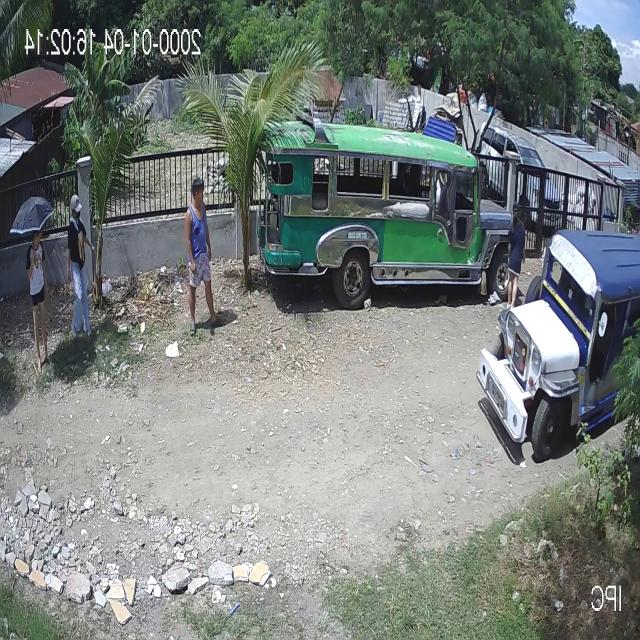standing: (27, 221, 53, 374), (503, 203, 532, 317)
walking: (180, 180, 220, 338), (66, 200, 95, 362)
